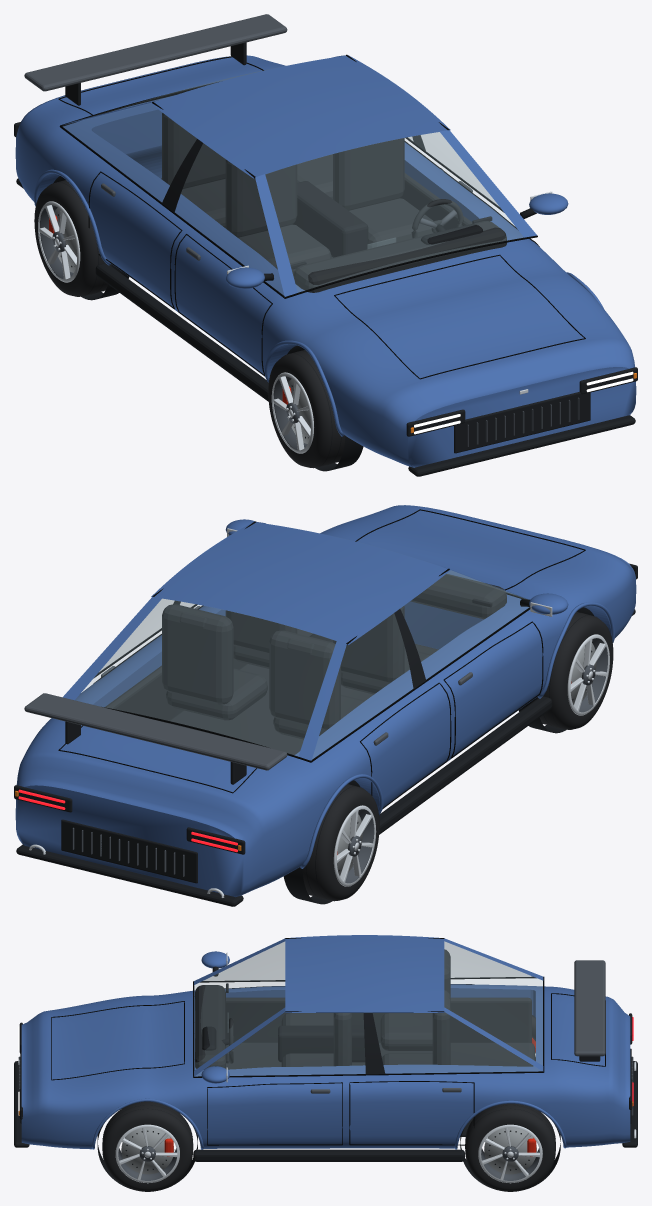
Rendered from sportline.glb.
3 renders of one model, top to bottom at view 1: azimuth 30°, elevation 25°; view 2: azimuth 150°, elevation 25°; view 3: azimuth 270°, elevation 25°, orthographic. The views are drawn at different scales.
Parts seen in each view (by area): view 1: Sculpted body shell.011, Windshield.011, Painted roof.011, Side glass.022, Rear aero wing.004, Interior dashboard.011, Interior seat back.035, Front grille housing.011, Interior seat back.034, Tire.046, Rocker aero sill.022, Interior centre console.011 (+24 smaller); view 2: Sculpted body shell.011, Rear glass.011, Painted roof.011, Side glass.022, Interior seat back.037, Rear aero wing.004, Interior seat back.036, Rear diffuser grille.011, Tire.044, Interior cabin floor.011, Rocker aero sill.022, Tire.046 (+28 smaller); view 3: Sculpted body shell.011, Side glass.023, Painted roof.011, Rear glass.011, Windshield.011, Interior door card.022, Tire.047, Tire.045, Rocker aero sill.023, Interior cabin floor.011, Rear aero wing.004, Side glass.022 (+31 smaller).
Part boxes in pixels (x1=…): Sculpted body shell.011: x1=15, y1=55, x2=636, y2=467; Windshield.011: x1=266, y1=132, x2=523, y2=292; Painted roof.011: x1=158, y1=56, x2=442, y2=175; Side glass.022: x1=62, y1=103, x2=283, y2=294; Rear aero wing.004: x1=24, y1=14, x2=287, y2=91; Interior dashboard.011: x1=293, y1=221, x2=506, y2=292; Interior seat back.035: x1=333, y1=138, x2=404, y2=210; Front grille housing.011: x1=454, y1=392, x2=590, y2=453; Interior seat back.034: x1=225, y1=159, x2=297, y2=237; Tire.046: x1=268, y1=350, x2=345, y2=467; Rocker aero sill.022: x1=95, y1=263, x2=268, y2=401; Interior centre console.011: x1=292, y1=181, x2=368, y2=257; Sculpted body shell.011: x1=15, y1=505, x2=636, y2=897; Rear glass.011: x1=76, y1=599, x2=335, y2=755; Painted roof.011: x1=159, y1=523, x2=442, y2=641; Side glass.022: x1=312, y1=570, x2=528, y2=759; Interior seat back.037: x1=162, y1=604, x2=233, y2=704; Rear aero wing.004: x1=24, y1=693, x2=287, y2=770; Interior seat back.036: x1=269, y1=630, x2=340, y2=730; Rear diffuser grille.011: x1=61, y1=819, x2=197, y2=883; Tire.044: x1=302, y1=784, x2=379, y2=900; Interior cabin floor.011: x1=167, y1=643, x2=438, y2=754; Rocker aero sill.022: x1=379, y1=696, x2=552, y2=834; Tire.046: x1=536, y1=612, x2=613, y2=729; Sculpted body shell.011: x1=21, y1=984, x2=630, y2=1149; Side glass.023: x1=196, y1=1013, x2=540, y2=1076; Painted roof.011: x1=285, y1=935, x2=444, y2=1011; Rear glass.011: x1=444, y1=942, x2=542, y2=1064; Windshield.011: x1=194, y1=942, x2=284, y2=1069; Interior door card.022: x1=226, y1=997, x2=531, y2=1042; Tire.047: x1=102, y1=1101, x2=193, y2=1191; Tire.045: x1=465, y1=1103, x2=555, y2=1191; Rocker aero sill.023: x1=193, y1=1149, x2=464, y2=1161; Interior cabin floor.011: x1=225, y1=1042, x2=535, y2=1069; Rear aero wing.004: x1=574, y1=960, x2=605, y2=1056; Side glass.022: x1=205, y1=942, x2=531, y2=980.
Bounding box in the file's own units: 2.33 × 1.47 × 4.8.
